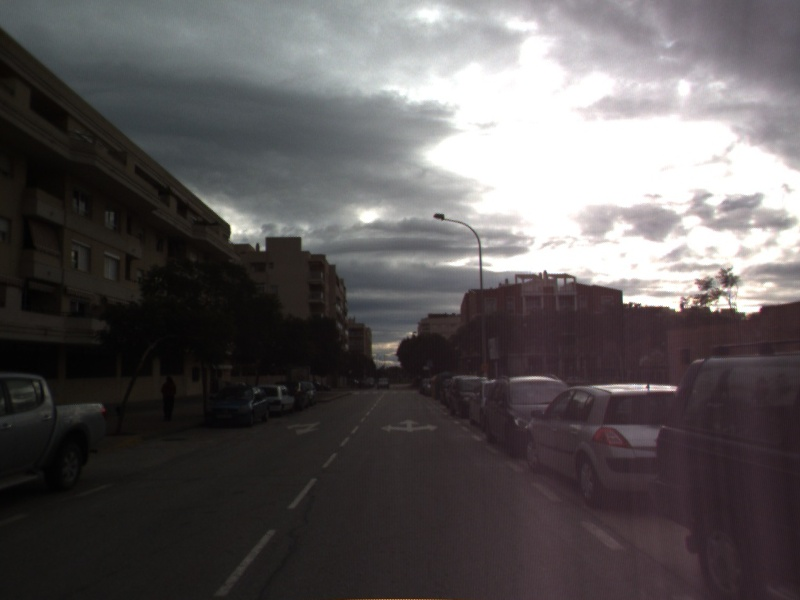STRAIGHT_LEFT_RIGHT: (378, 417, 441, 435)
